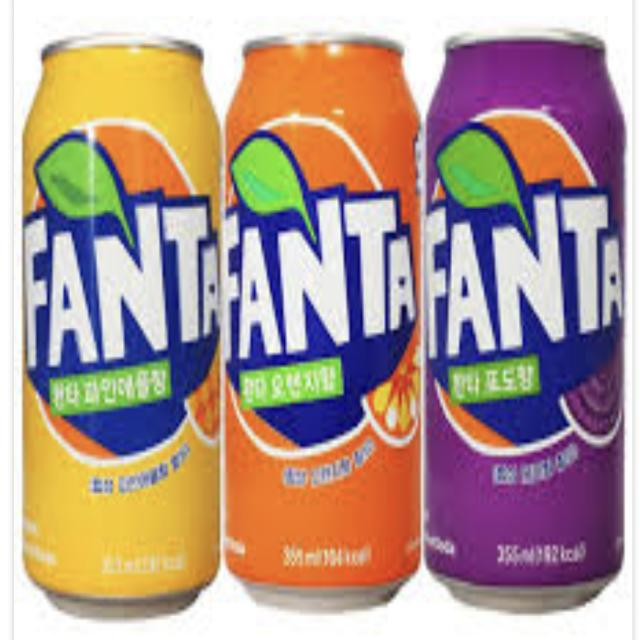recyclable: (417, 7, 633, 621), (214, 16, 428, 613), (18, 18, 228, 625)
